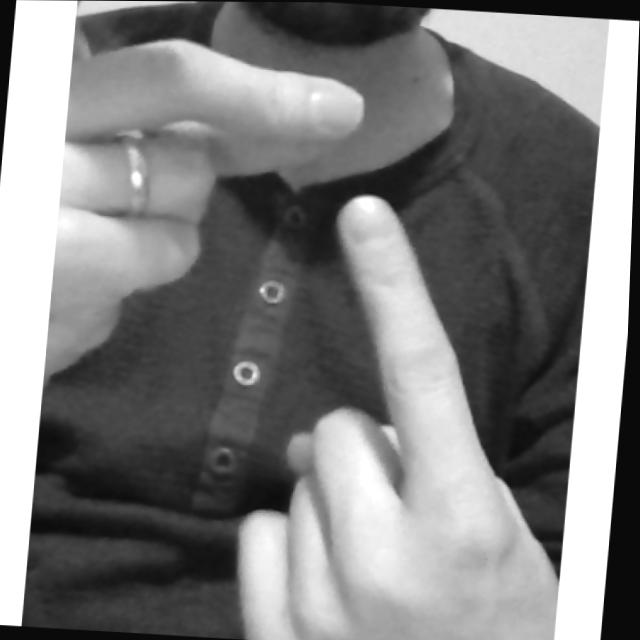I-: (17, 28, 608, 640)
